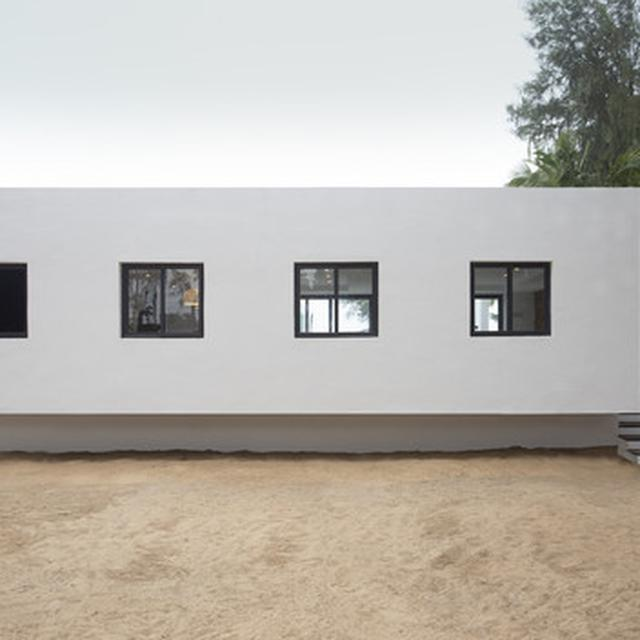building: (0, 183, 640, 456)
